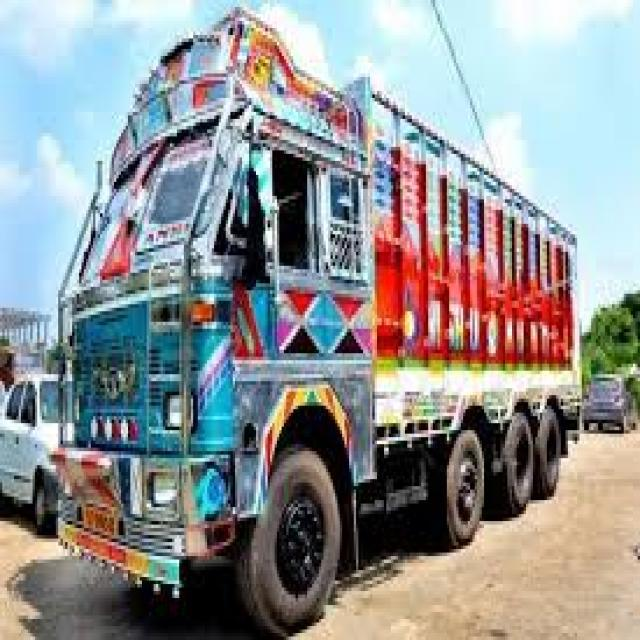covered: (49, 4, 582, 634)
